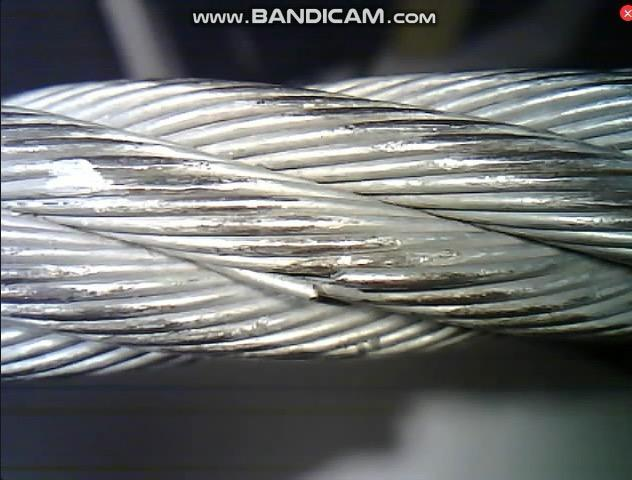break: (283, 256, 368, 311)
